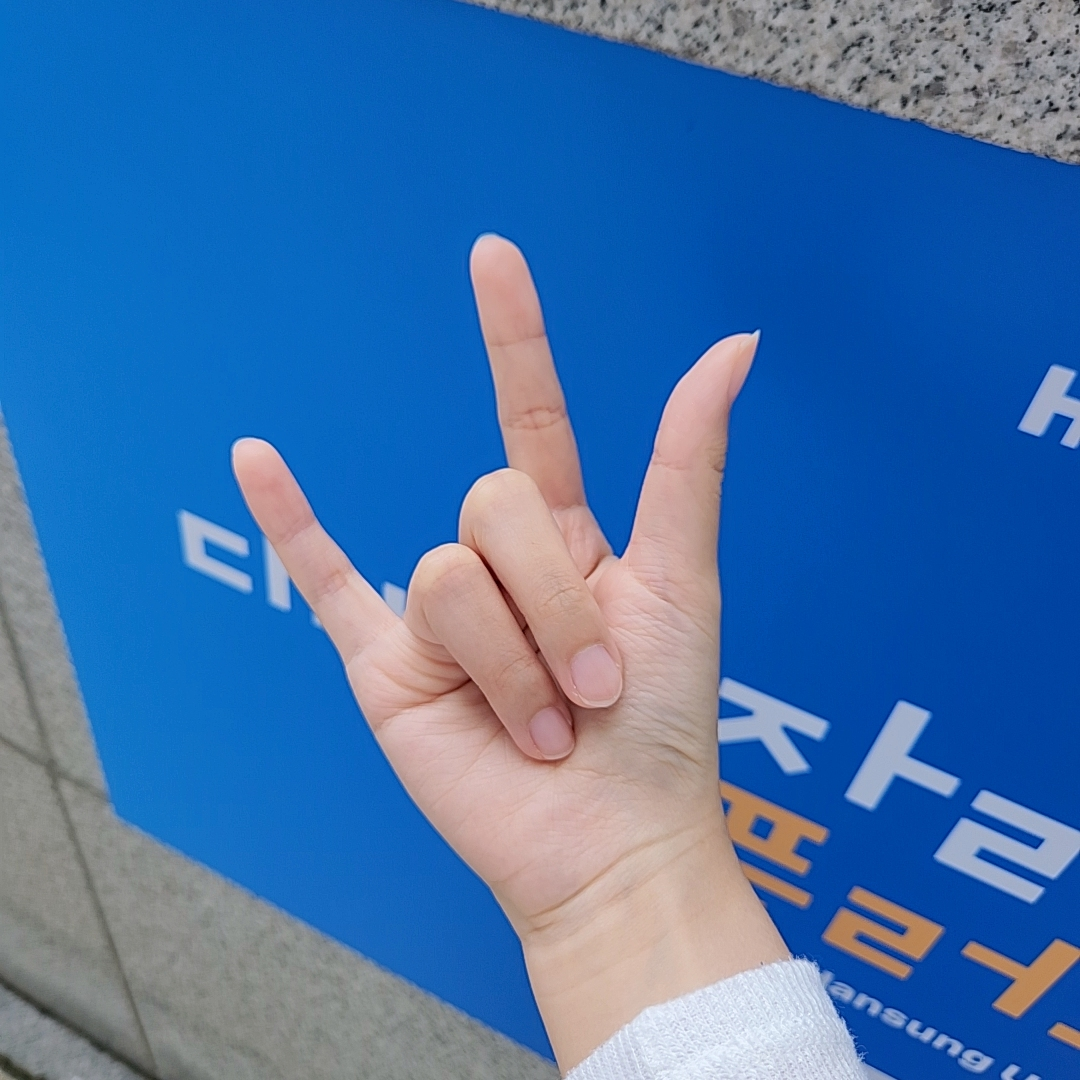iloveyou: (231, 235, 763, 882)
